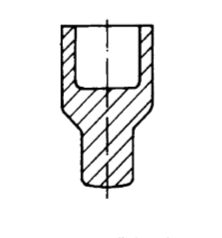nrfp: (53, 16, 160, 106)
